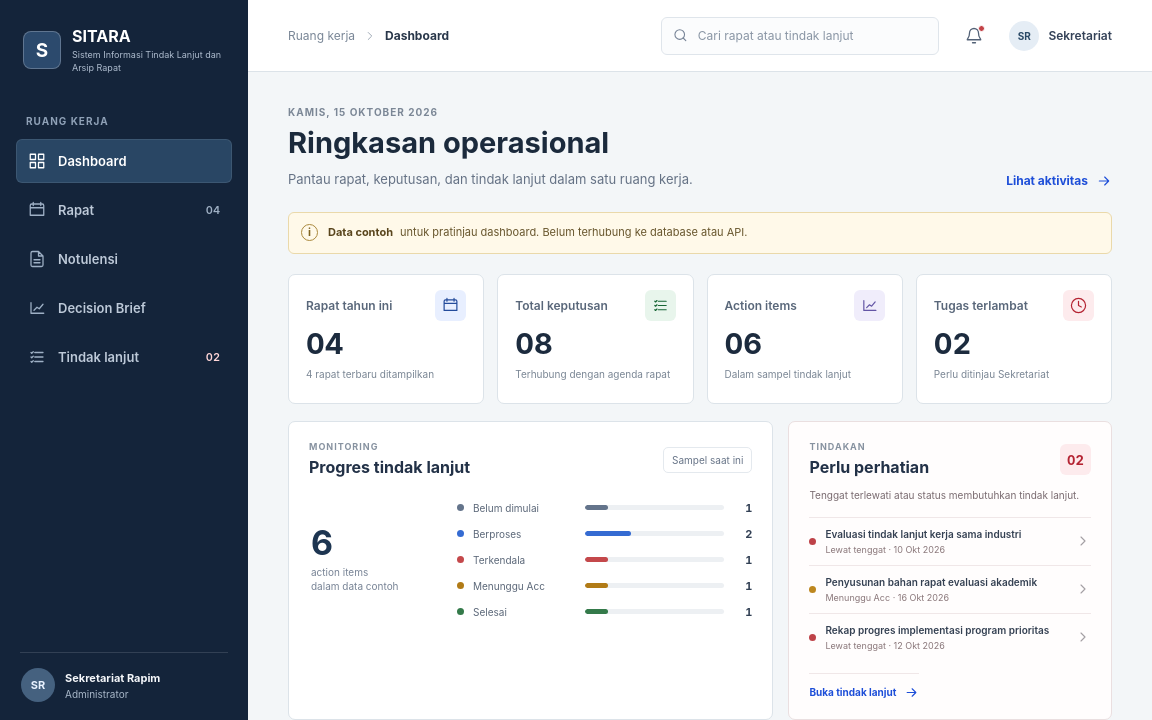
SITARA dashboard › opens the Decision Brief editor for an authenticated meeting reader
Click the link "Decision Brief" at {"x": 87, "y": 308}, box [28,299,146,317]
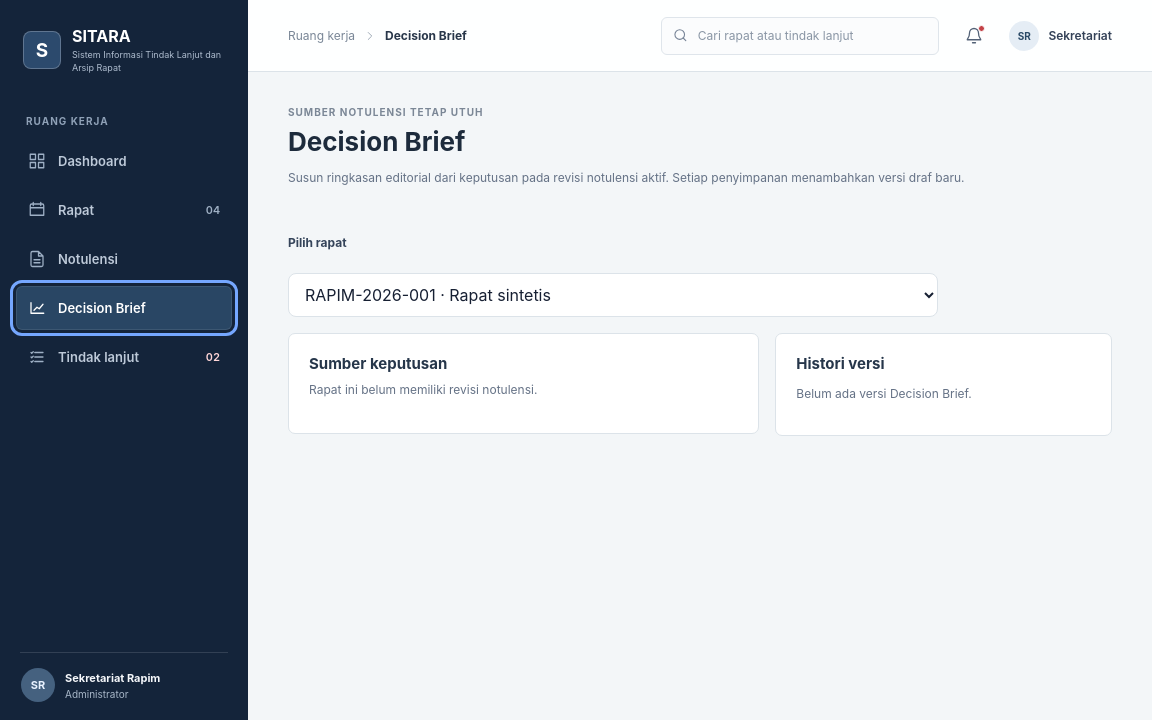
Expected: the heading "Decision Brief" is shown, [288,126,465,157]
Expected: the text "Rapat ini belum memiliki revisi notulensi." is shown, [309,382,537,397]
